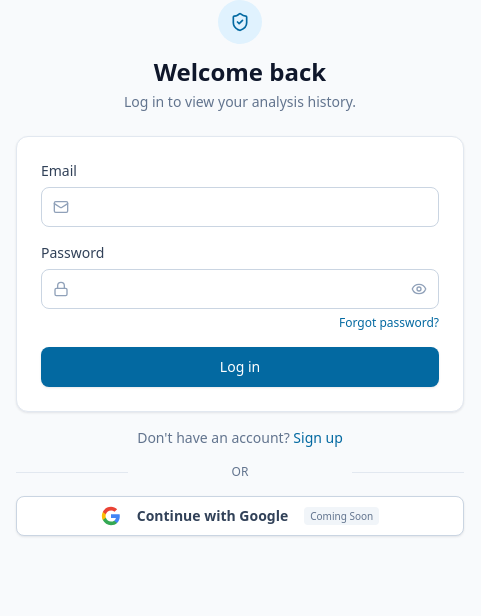
Test: LoginPage › shows an error message on invalid credentials
In the field labelled "Email": [240, 207] box [41, 187, 439, 227], type "jane@example.com"
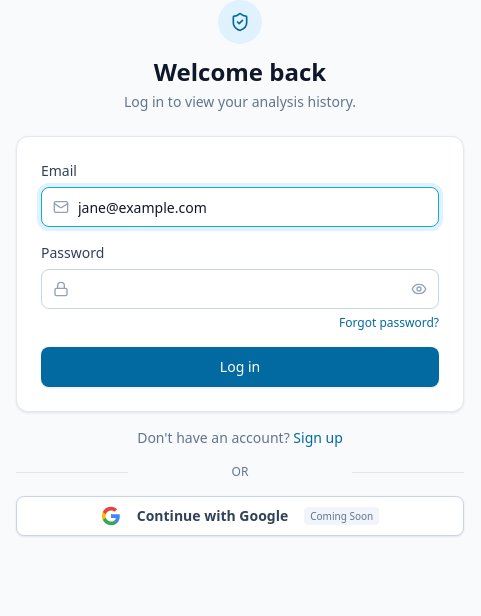
In the password field labelled "Password": [240, 289] box [41, 269, 439, 309], type "wrongpassword"
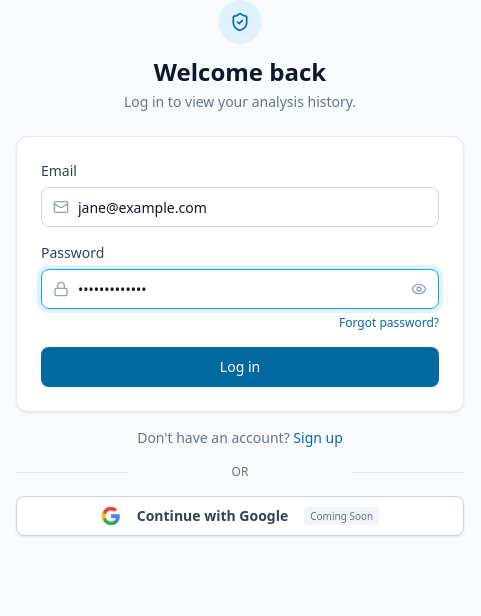
Click the button "Log in": [240, 367] box [41, 347, 439, 387]
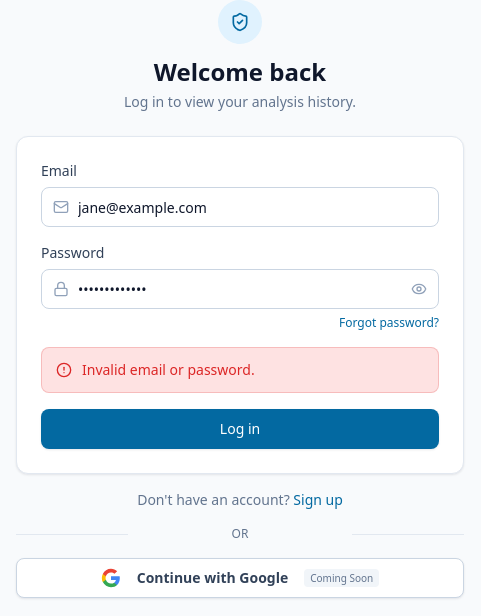
Result: the text "Invalid email or password." is shown at [82, 360, 255, 380]
